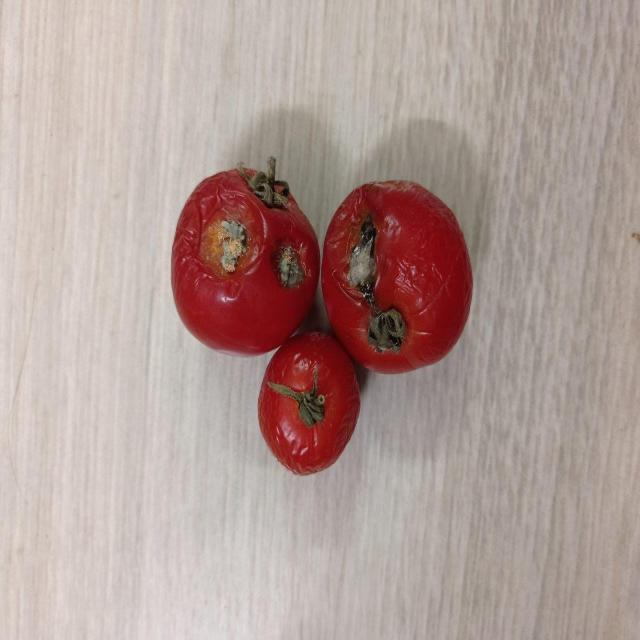Rotten: (322, 180, 474, 378), (172, 169, 322, 354)
